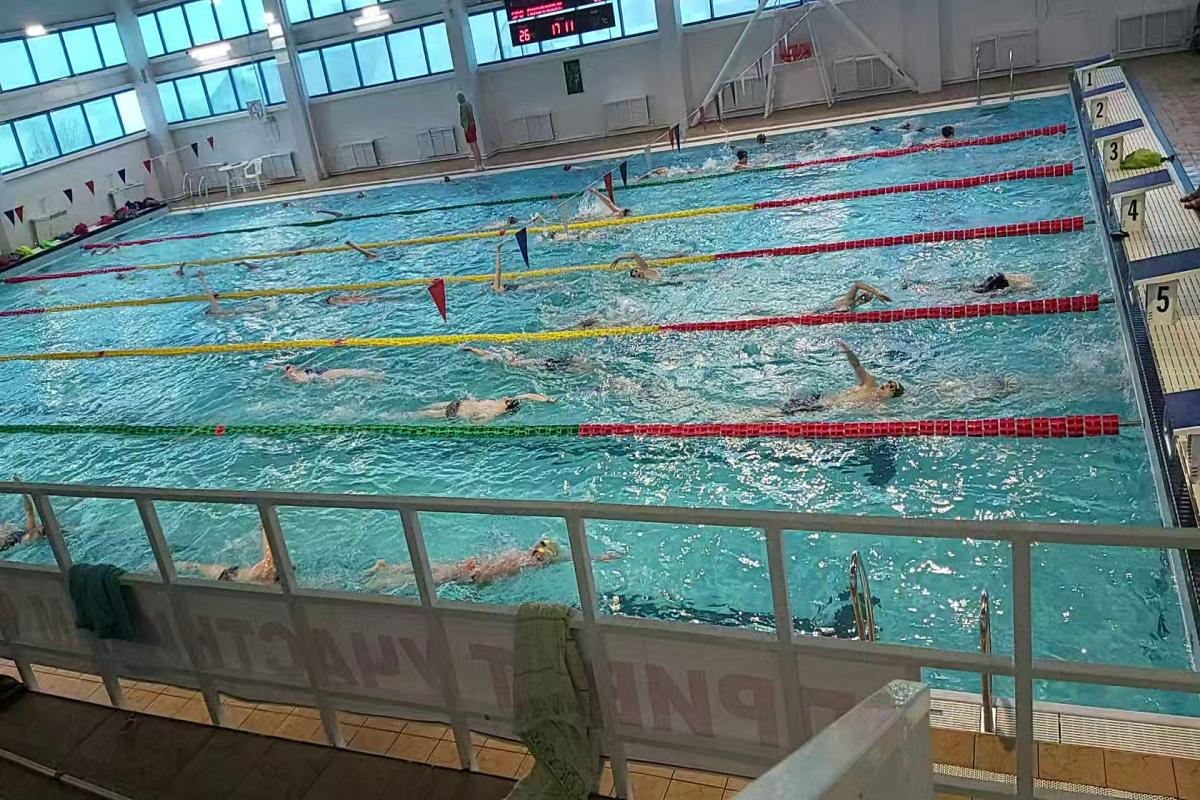swimmer: (775, 340, 911, 414), (439, 534, 572, 599), (258, 342, 394, 404), (166, 530, 280, 580), (418, 384, 539, 423), (954, 259, 1045, 305), (474, 249, 541, 303), (818, 272, 892, 312), (603, 253, 685, 288), (319, 282, 399, 314), (194, 288, 259, 326), (583, 186, 647, 221), (6, 511, 46, 552), (538, 222, 603, 245)
